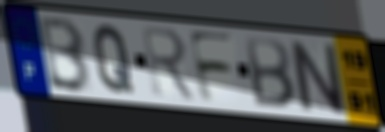B: (38, 14, 94, 95), (242, 34, 297, 111)
F: (185, 28, 236, 106)
N: (286, 38, 350, 118)
Q: (91, 23, 137, 96)
R: (138, 23, 200, 105)
